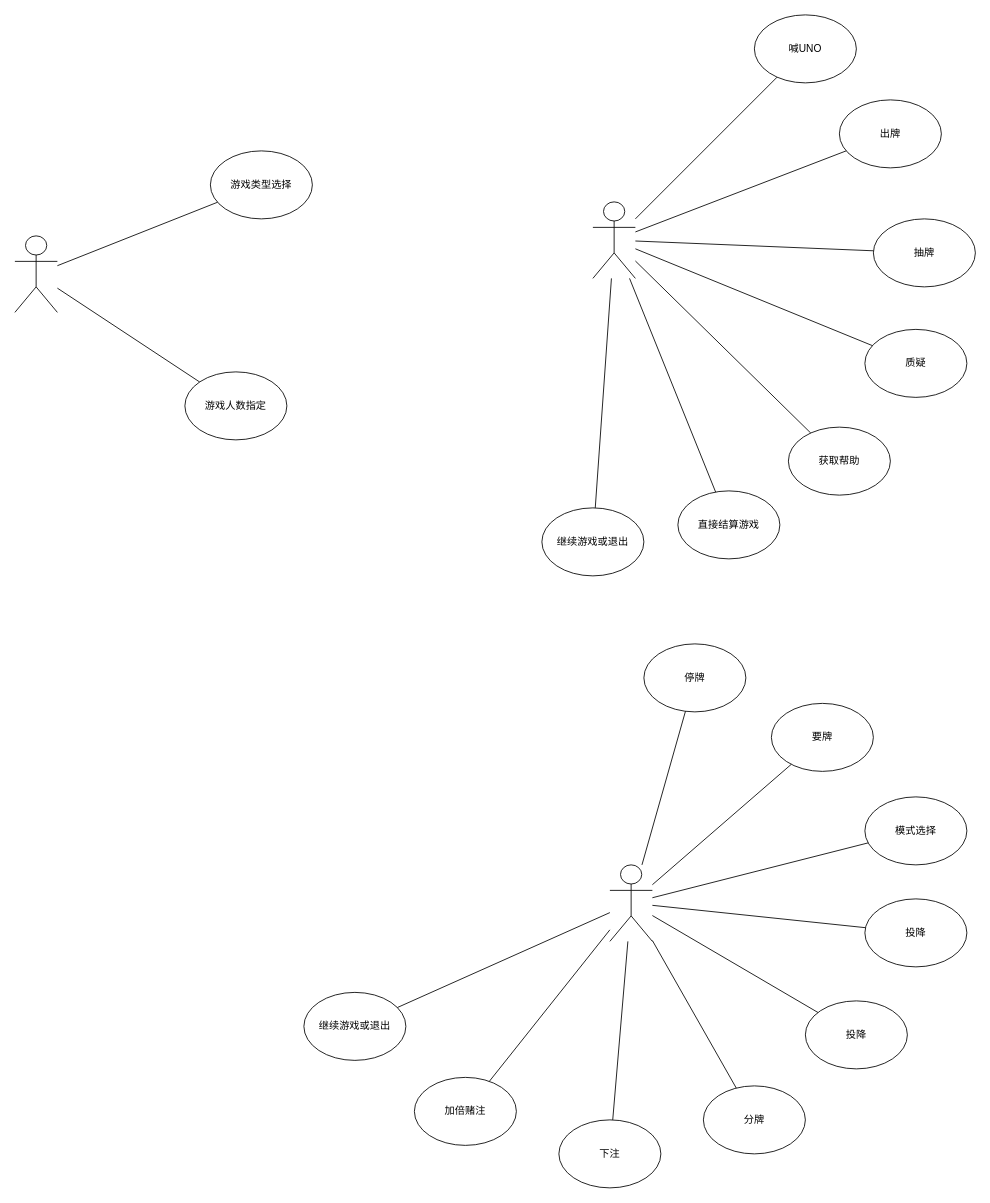
Some shapes in this 990 by 1203 pixel diagram are drawn without their labels. The shapes that lost their labels are listed below. From the top down, each one's centre as x and y in pixels, then its label:
At (x=613, y=239): "UNO_Player".
At (x=35, y=273): "User".
At (x=630, y=902): "BJ_Player".
